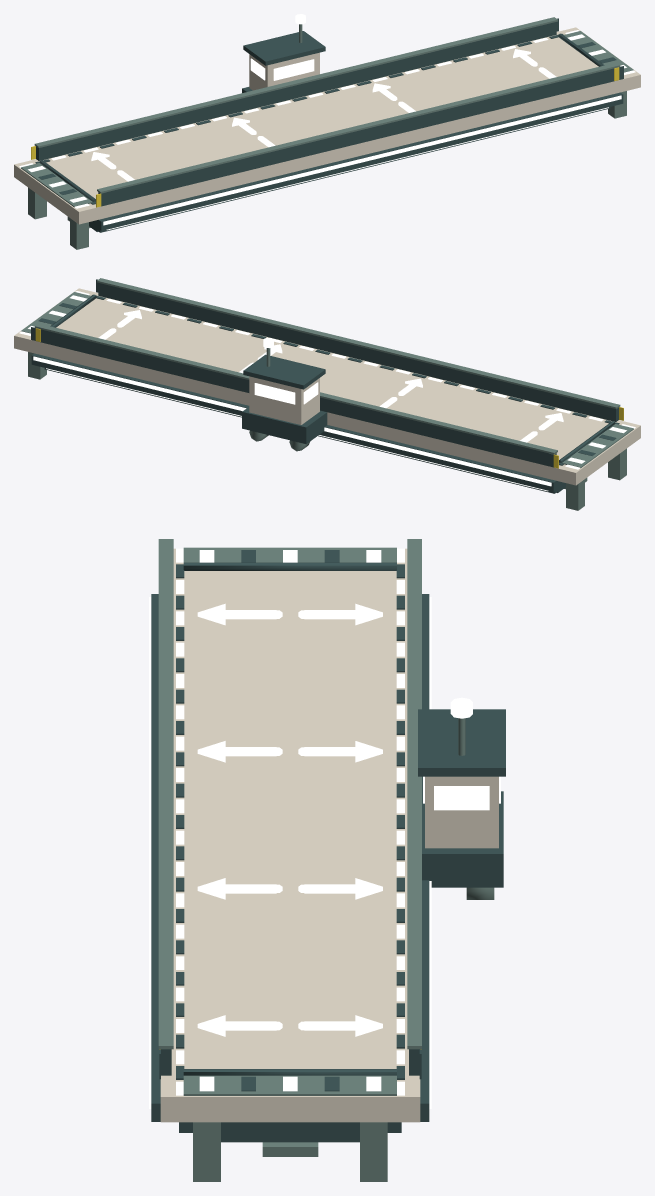
Rendered from Deck_Ferry_v4_14_lab.glb.
The picture shows the model from 3 angles, top to bottom: view 1: azimuth 30°, elevation 25°; view 2: azimuth 150°, elevation 25°; view 3: azimuth 270°, elevation 25°; orthographic projection. The views are drawn at different scales.
Parts seen in each view (by area): view 1: Deck_Ferry_v4_14; view 2: Deck_Ferry_v4_14; view 3: Deck_Ferry_v4_14.
Part boxes in pixels (box(x1,y1,x2,y2)): Deck_Ferry_v4_14: box(14, 14, 640, 249); Deck_Ferry_v4_14: box(14, 278, 640, 510); Deck_Ferry_v4_14: box(149, 539, 505, 1181).
Bounding box in the file's own units: 14 × 2.7 × 3.85.
